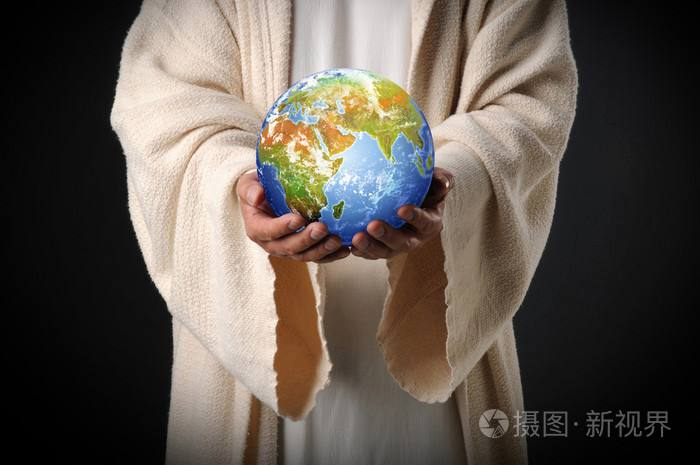no-phone: (237, 69, 453, 265)
